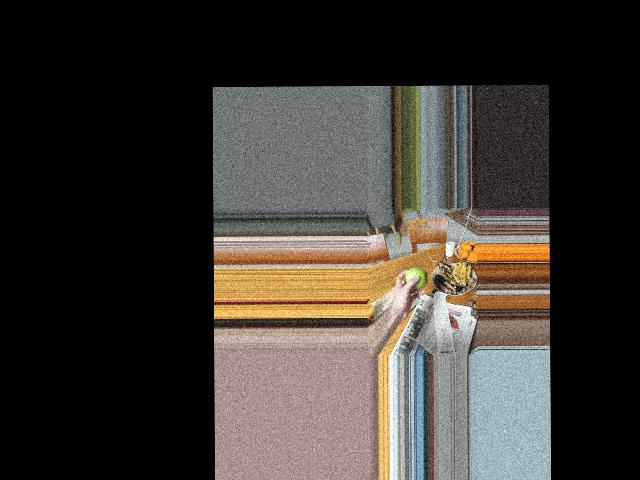apple: (404, 266, 427, 291)
